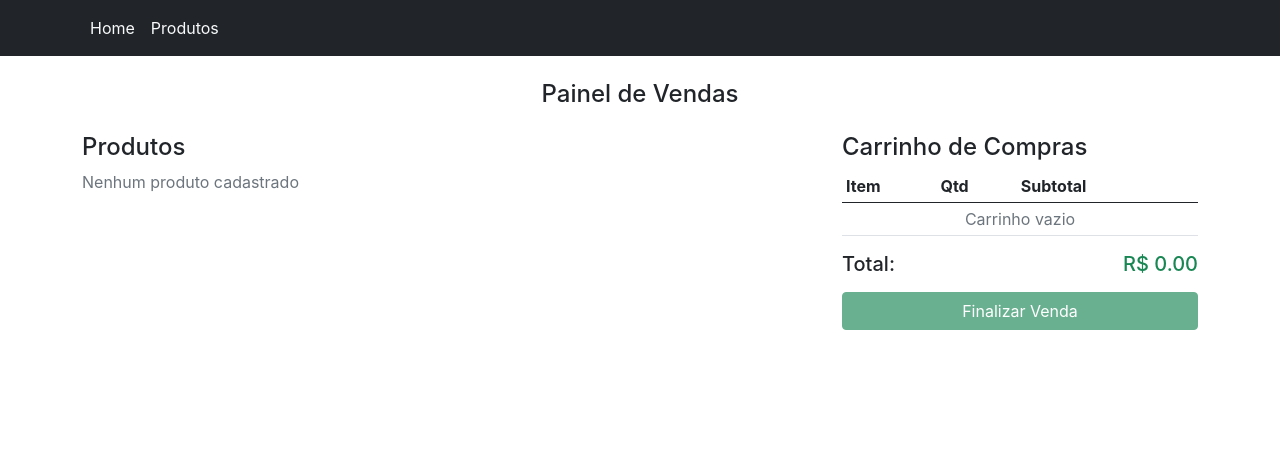
it: navega para a página de produtos
Click the link "Produtos": (185, 28) x1=151 y1=18 x2=219 y2=38
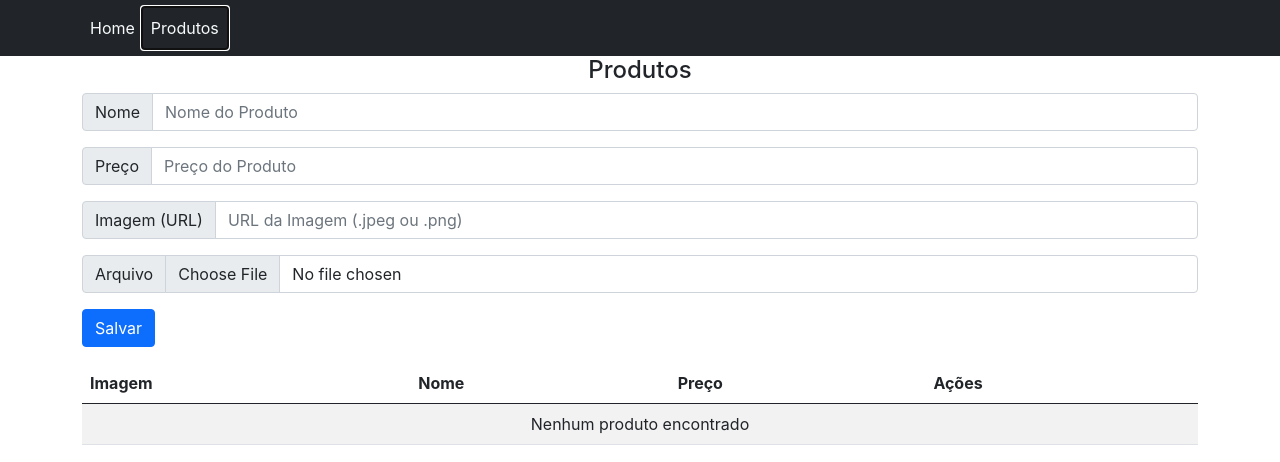
Check: the text "Nenhum produto encontrado" is shown, box x1=82 y1=403 x2=1198 y2=444
